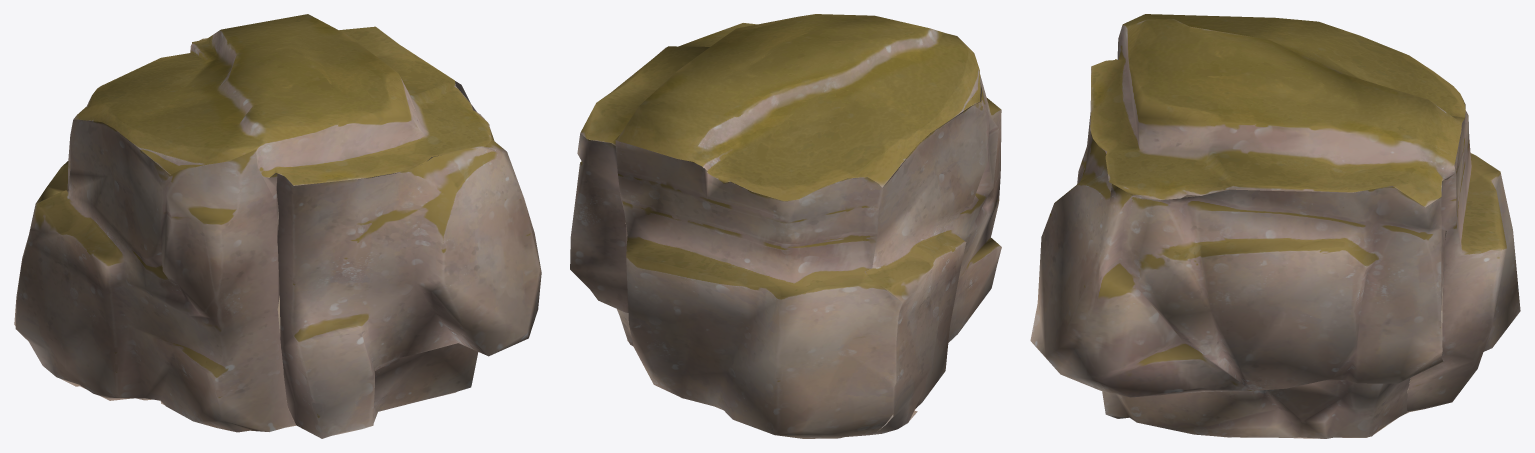
The model's file is Rock.fbx.
3 renders of one model, left to right at view 1: azimuth 30°, elevation 25°; view 2: azimuth 150°, elevation 25°; view 3: azimuth 270°, elevation 25°, orthographic. The views are drawn at different scales.
Visible parts, largest first — view 1: Rock_01_Low; view 2: Rock_01_Low; view 3: Rock_01_Low.
Part boxes in pixels (x1,y1,x2,y2): Rock_01_Low: [14, 14, 541, 438]; Rock_01_Low: [570, 14, 1001, 438]; Rock_01_Low: [1030, 14, 1520, 438].
Size of the model in its own units: 134 by 110 by 152.
